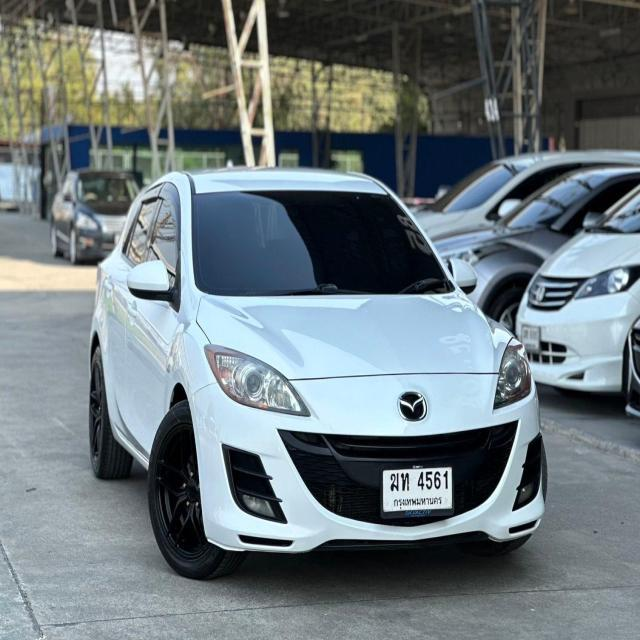Hatchback: (89, 168, 547, 579)
